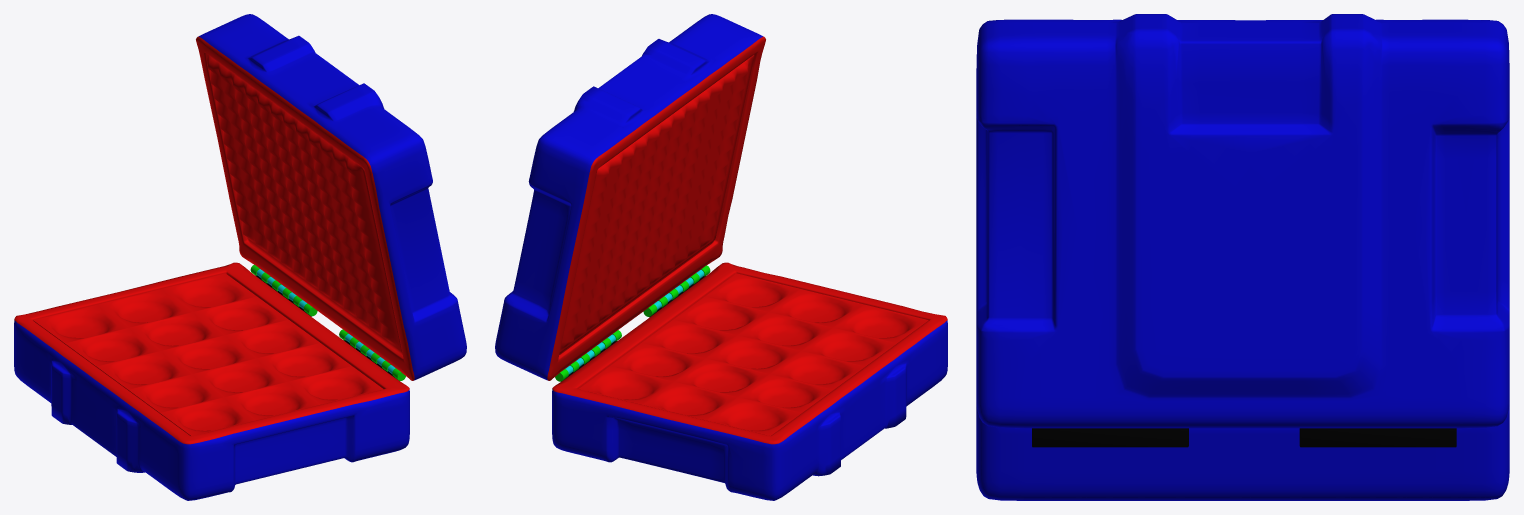
Rendered from Grenade_Crate.fbx.
3 renders of one model, left to right at view 1: azimuth 30°, elevation 25°; view 2: azimuth 150°, elevation 25°; view 3: azimuth 270°, elevation 25°, orthographic. The views are drawn at different scales.
Visible parts, largest first — view 1: Bottom_Grenade_Crate, Top_Grenade_Crate; view 2: Bottom_Grenade_Crate, Top_Grenade_Crate; view 3: Top_Grenade_Crate, Bottom_Grenade_Crate.
Part boxes in pixels (<box>): Bottom_Grenade_Crate: <box>14,262,409,500</box>; Top_Grenade_Crate: <box>196,14,466,380</box>; Bottom_Grenade_Crate: <box>552,262,947,500</box>; Top_Grenade_Crate: <box>495,14,765,381</box>; Top_Grenade_Crate: <box>976,14,1509,428</box>; Bottom_Grenade_Crate: <box>976,402,1509,500</box>.
Bounding box in the file's own units: 66.8 × 70.86 × 69.24.
